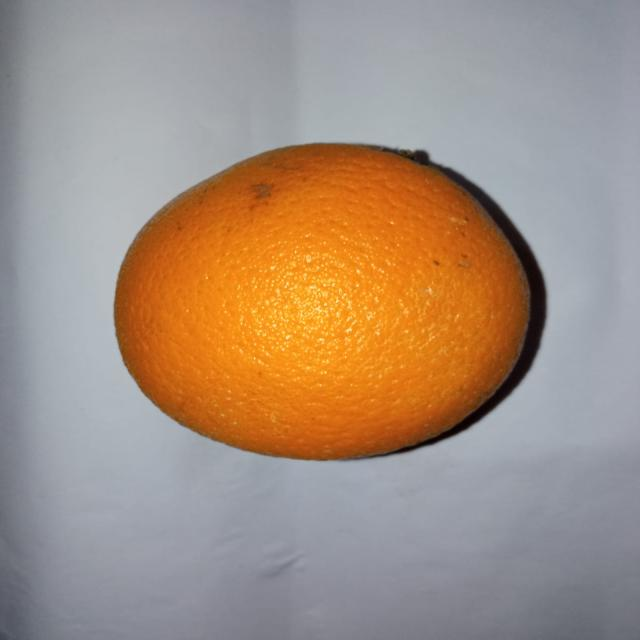fresh_orange: (113, 142, 532, 458)
